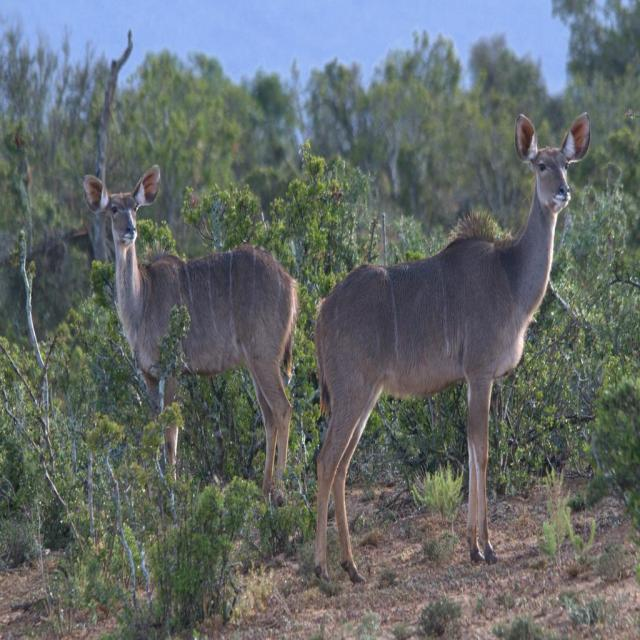Deer: (312, 112, 590, 588), (85, 158, 294, 504)
